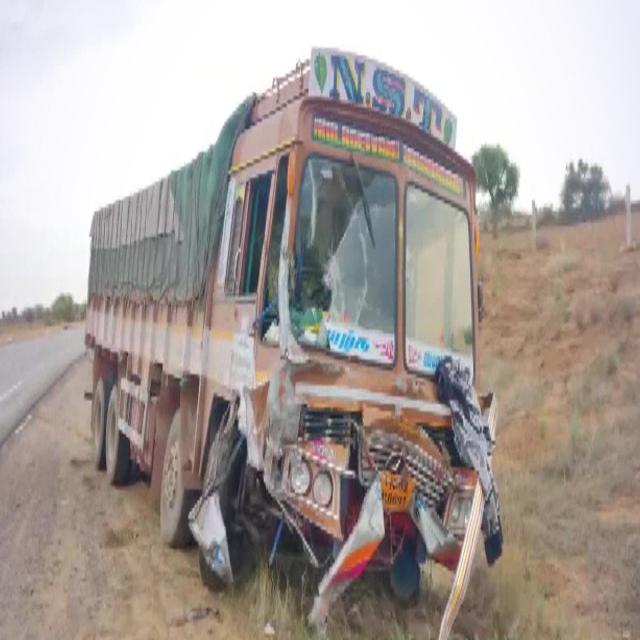accident: (85, 49, 501, 638)
